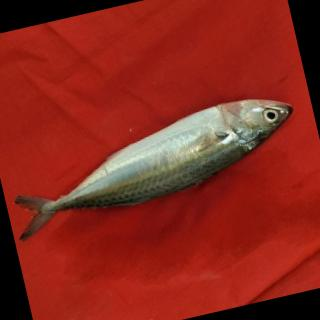Ikan: (1, 76, 316, 256)
